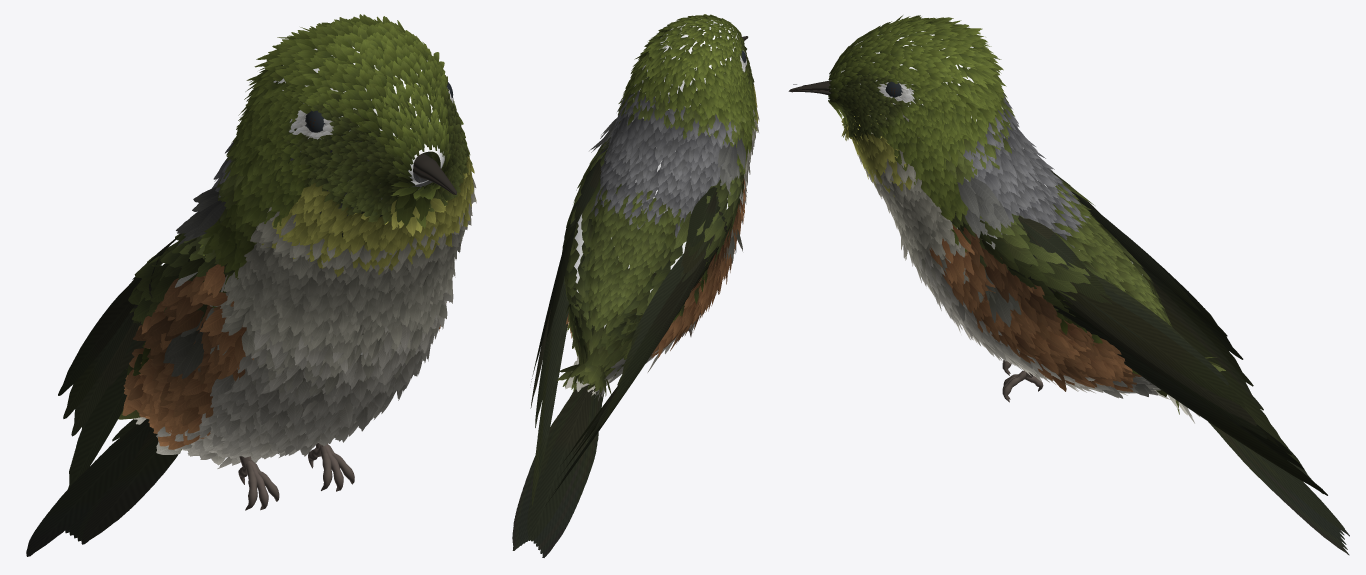
Rendered from manu-tauhou.glb.
3 renders of one model, left to right at view 1: azimuth 30°, elevation 25°; view 2: azimuth 150°, elevation 25°; view 3: azimuth 270°, elevation 25°, orthographic. The views are drawn at different scales.
Parts seen in each view (by area): view 1: contour_feathers, wing_and_tail_feathers, legs_and_feet, bill, body_skin; view 2: contour_feathers, wing_and_tail_feathers, body_skin; view 3: contour_feathers, wing_and_tail_feathers, legs_and_feet.
Part boxes in pixels (x1,y1,x2,y2): contour_feathers: (118, 14, 476, 468); wing_and_tail_feathers: (26, 189, 417, 556); legs_and_feet: (238, 82, 453, 510); bill: (413, 153, 456, 194); body_skin: (273, 46, 444, 356); contour_feathers: (557, 14, 759, 400); wing_and_tail_feathers: (512, 137, 744, 557); body_skin: (571, 19, 737, 328); contour_feathers: (828, 15, 1225, 423); wing_and_tail_feathers: (951, 170, 1349, 555); legs_and_feet: (885, 81, 1043, 402).
Bounding box in the file's own units: 0.0576 × 0.1458 × 0.1415.
Materials: 4 (1 with a texture image).
